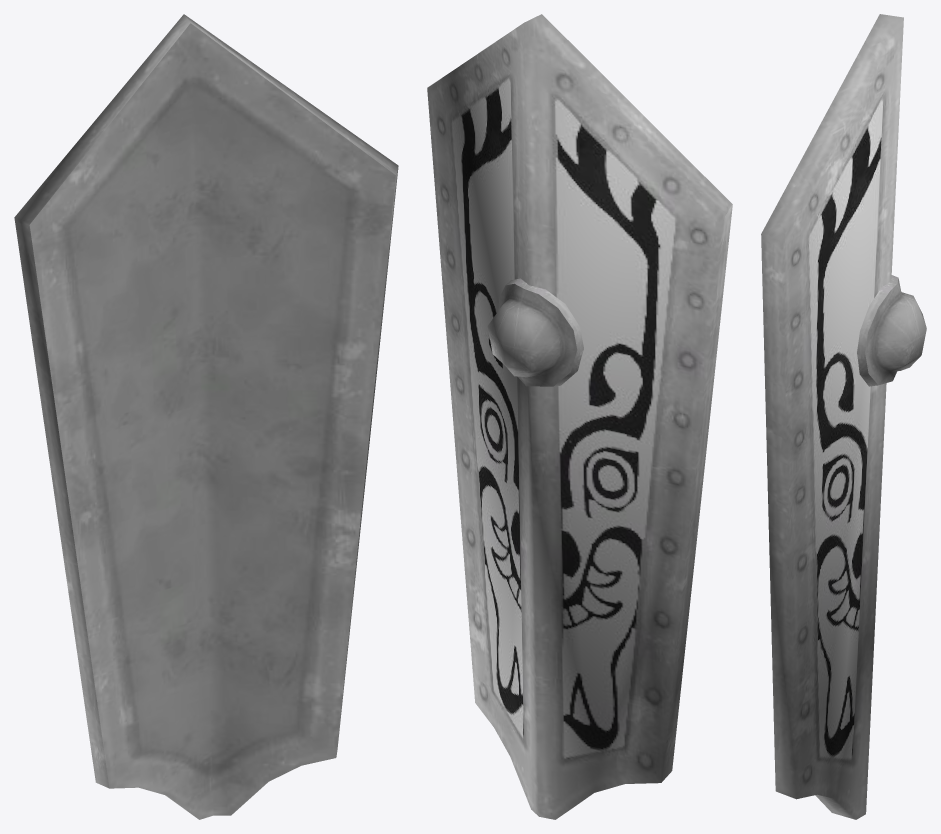
The model's file is shield-bronzeshields.glb.
3 renders of one model, left to right at view 1: azimuth 30°, elevation 25°; view 2: azimuth 150°, elevation 25°; view 3: azimuth 270°, elevation 25°, orthographic. The views are drawn at different scales.
Bounding box in the file's own units: 0.6897 × 1.54 × 0.291.
Materials: 1 (1 with a texture image).
